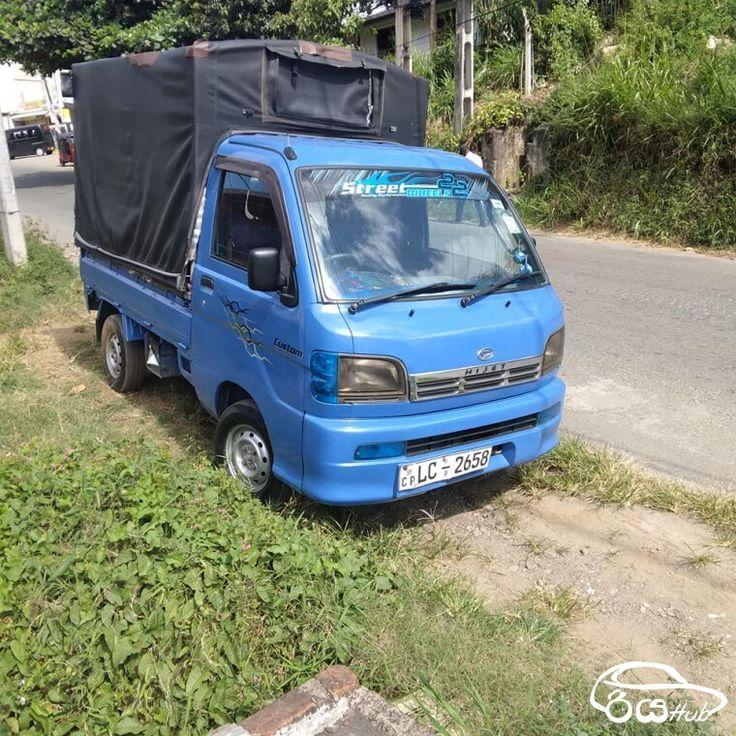truck: (69, 39, 566, 509)
van: (3, 125, 54, 160)
